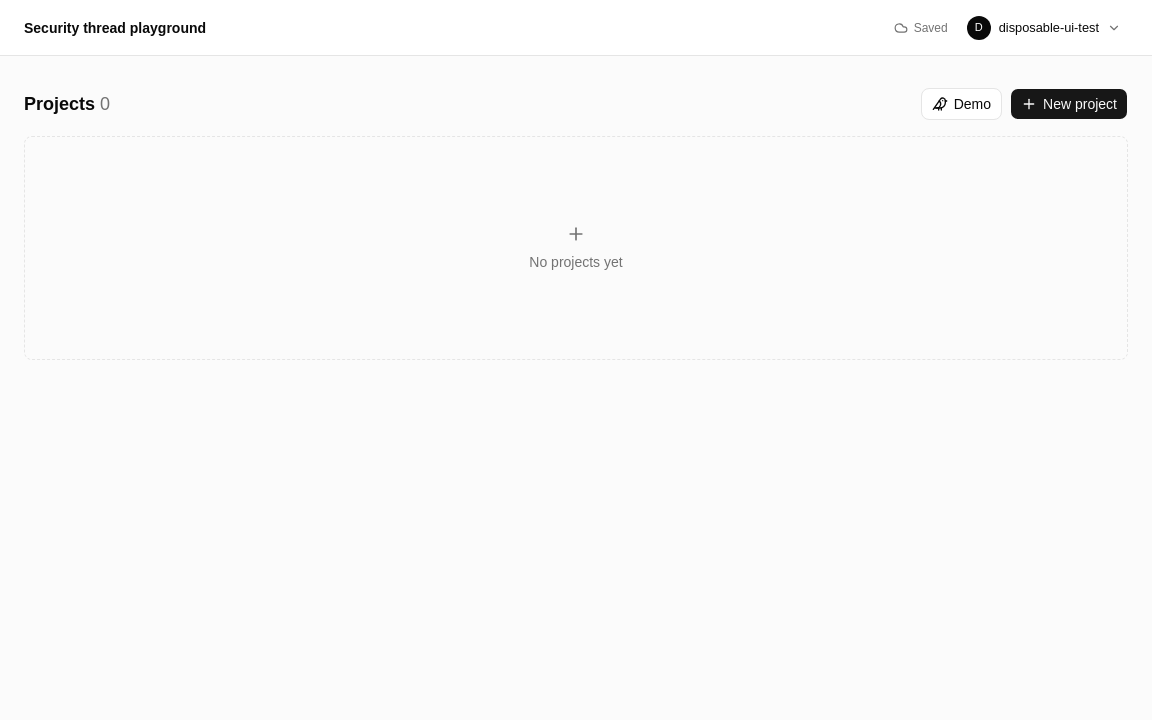
it: username workspace editor › creates a project and banknote, autosaves a rename, and duplicates the project
Click the button "New project" at (1069, 104), box [1010,88,1128,120]
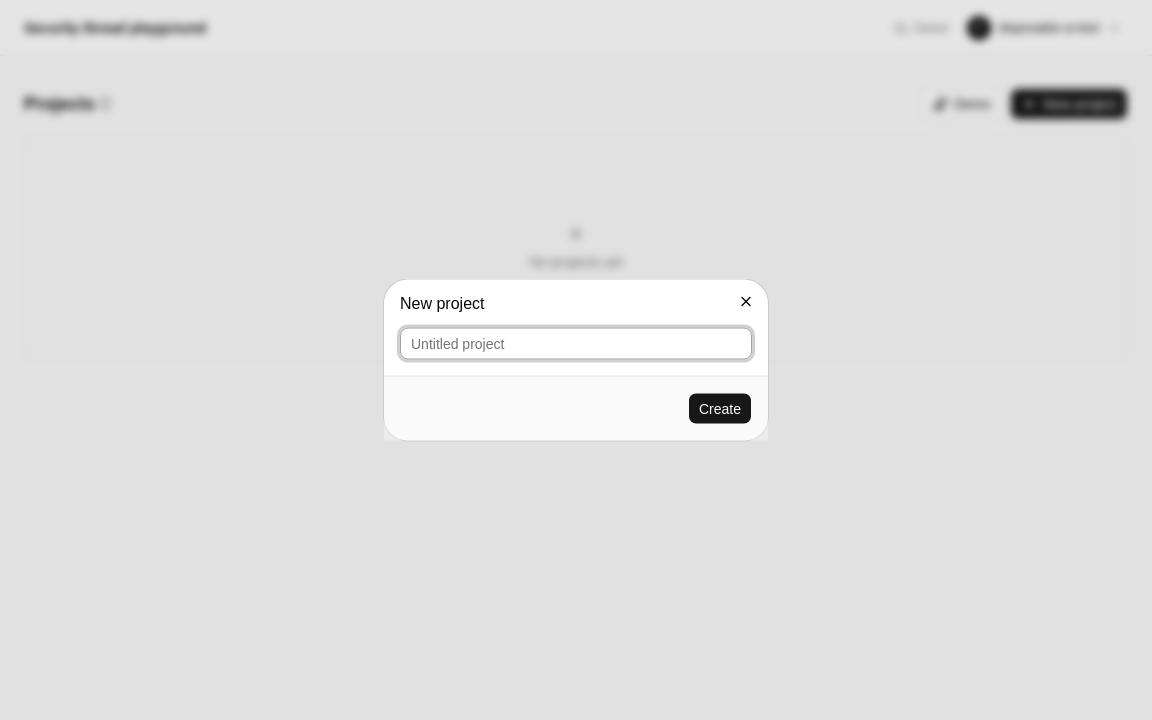
Type "UI test project" into the field with placeholder "Untitled project" at (576, 344), box [400,328,752,360]
Click the button "Create" at (720, 408), box [688,392,752,424]
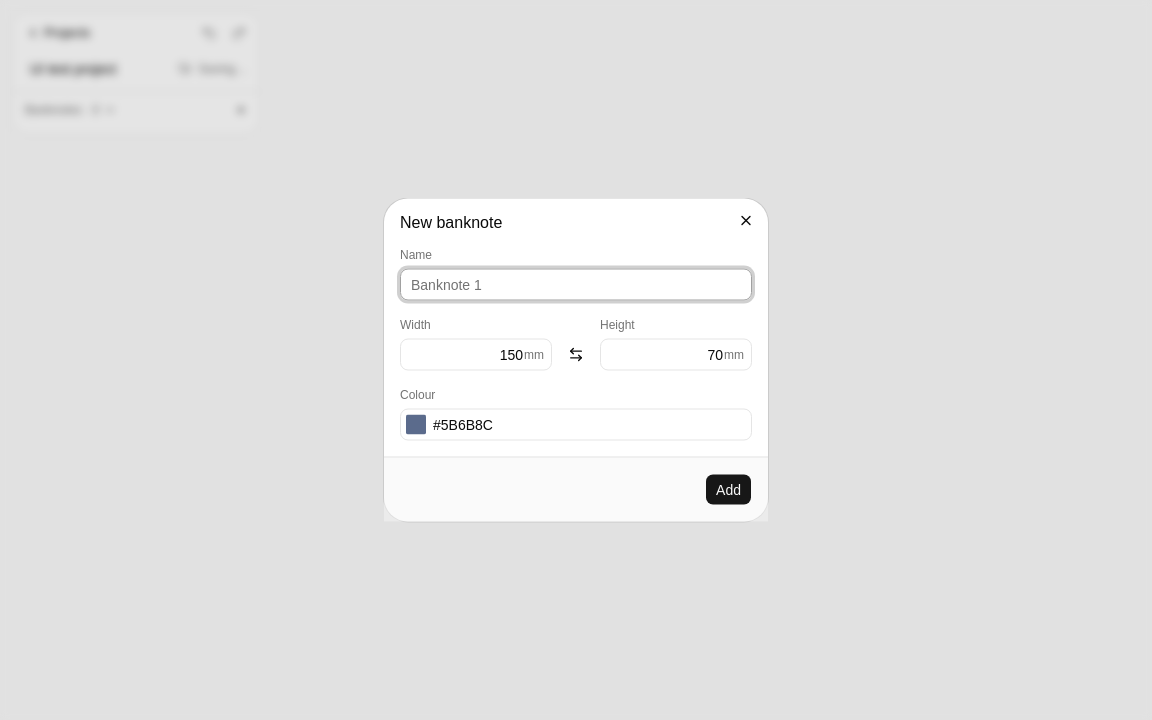
Type "UI test banknote" into the field with placeholder "Banknote 1" at (576, 284), box [400,268,752,300]
Click the button "Add" at (729, 490), box [705,474,752,506]
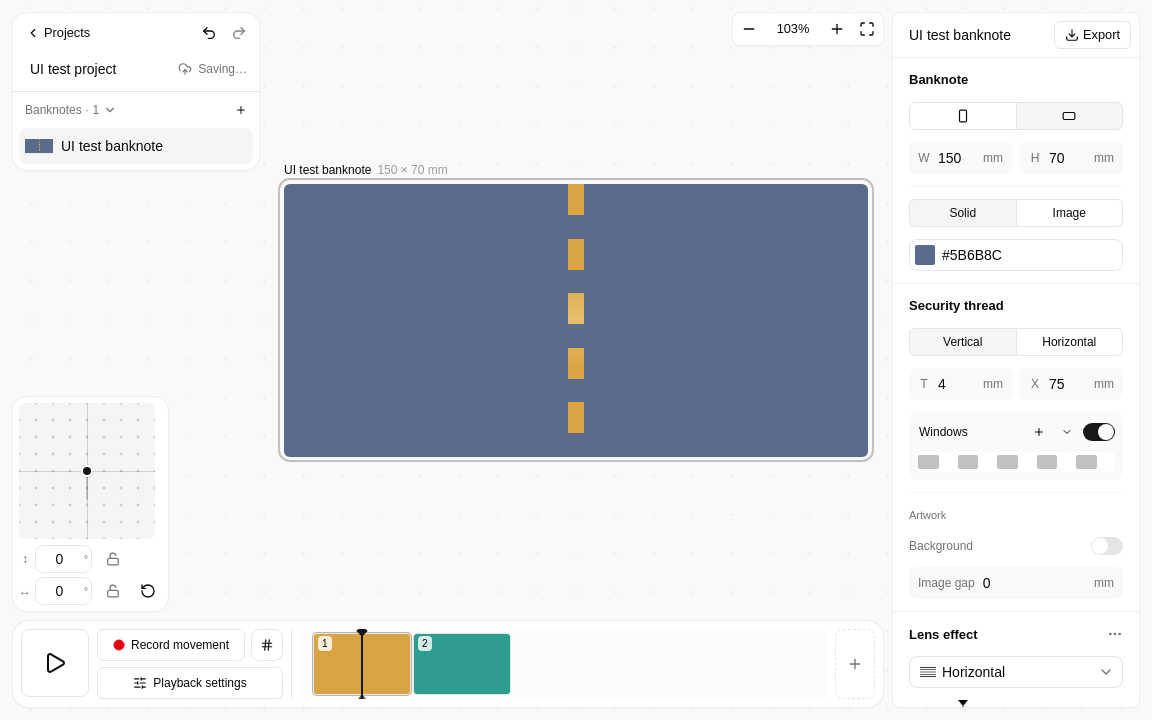
Check: the dialog is gone
Replace the text in the field named "Project name" with "Renamed UI project" at (95, 69), box [19,53,170,85]
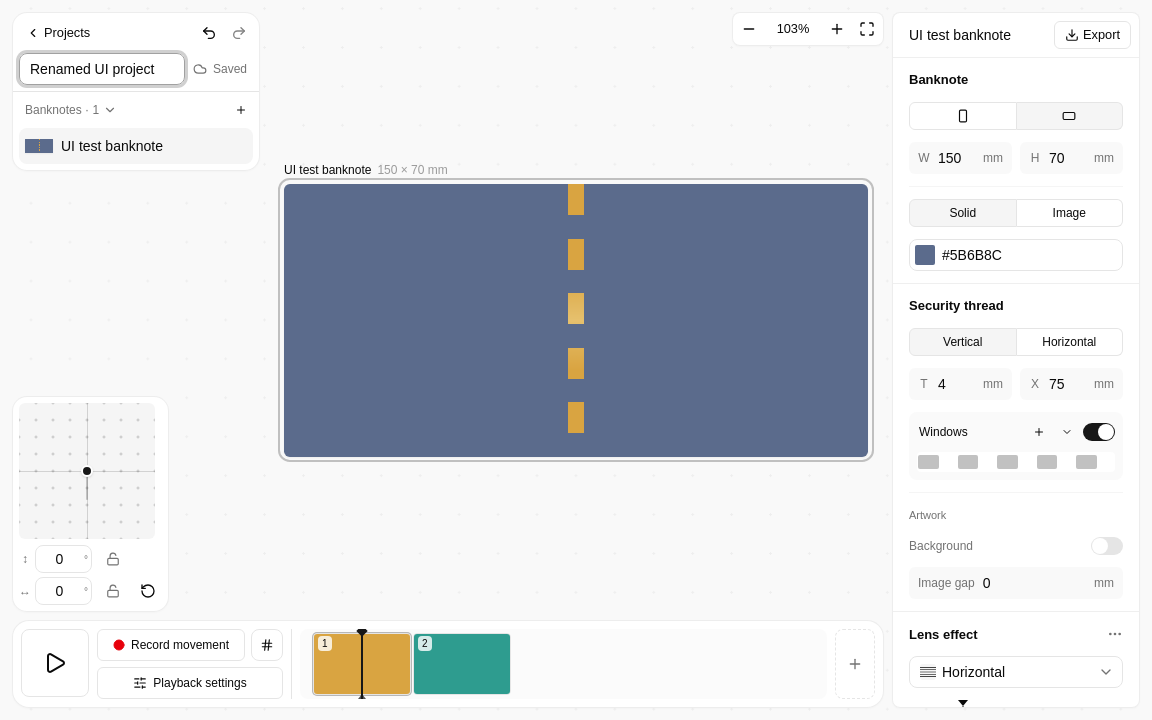
Check: the message reads "Saved", box [213,62,247,76]
Click the button "Projects" at (58, 33), box [19,19,97,47]
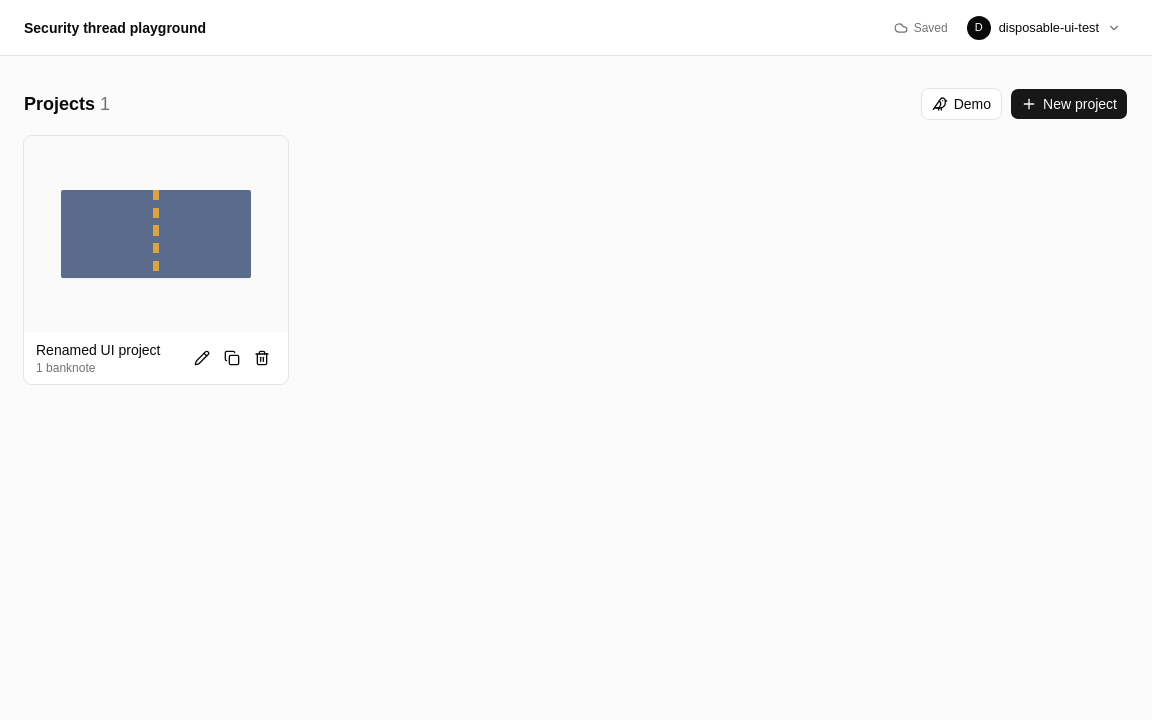
Click the button named "Duplicate" at (232, 358), box [218,344,246,372]
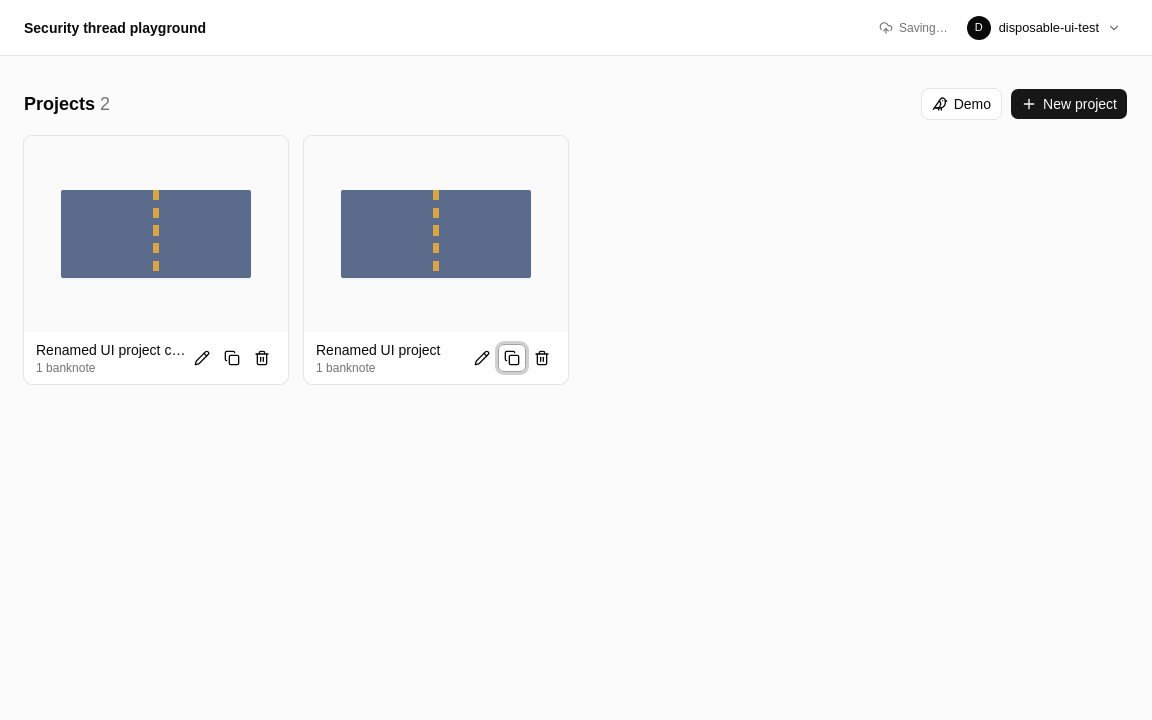
Check: the text "Renamed UI project" is shown, box [316,342,440,358]
Check: the text "Renamed UI project copy" is shown, box [36,340,186,360]
Check: the text "1 banknote" is shown 2 times, box [36,361,95,375]; [316,361,375,375]
